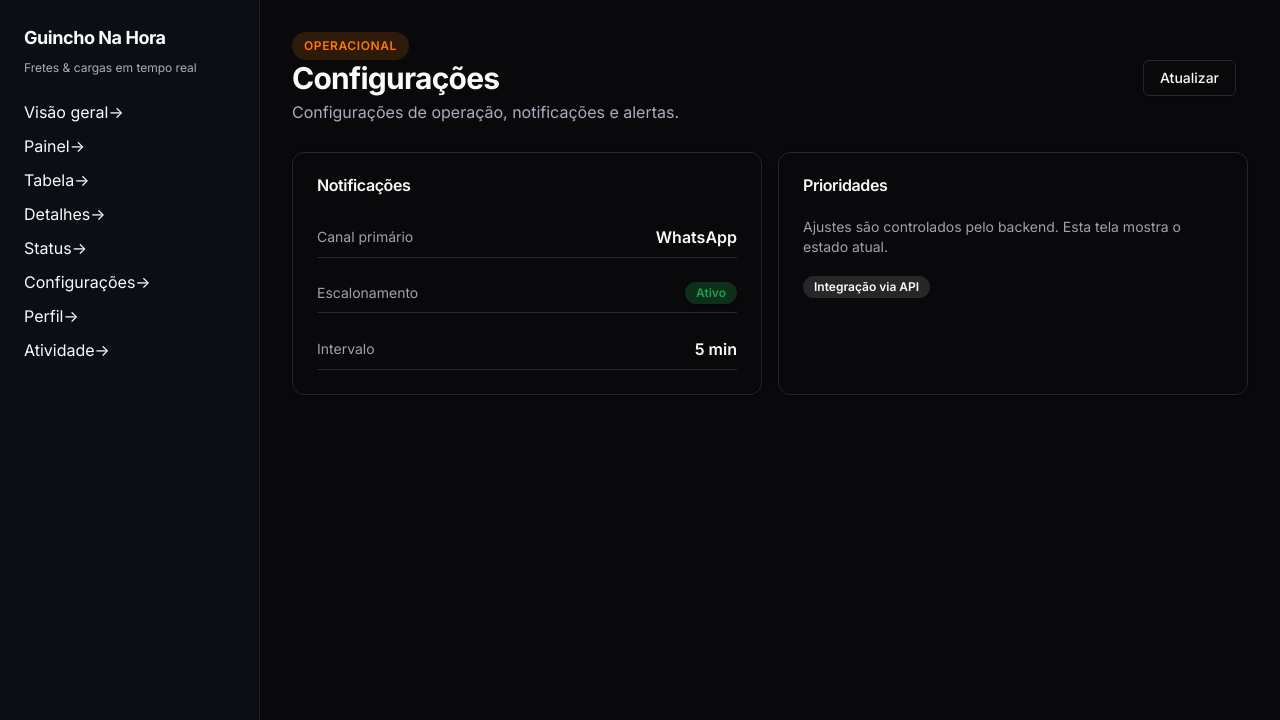
Test: Settings page › content and refresh › renders settings content
Check: the text "Notificações" is shown, box [317,175,410,195]
Check: the text "WhatsApp" is shown, box [656,225,737,249]
Step 1. Click the button "Atualizar" → click(1190, 78), box [1143,60,1236,96]
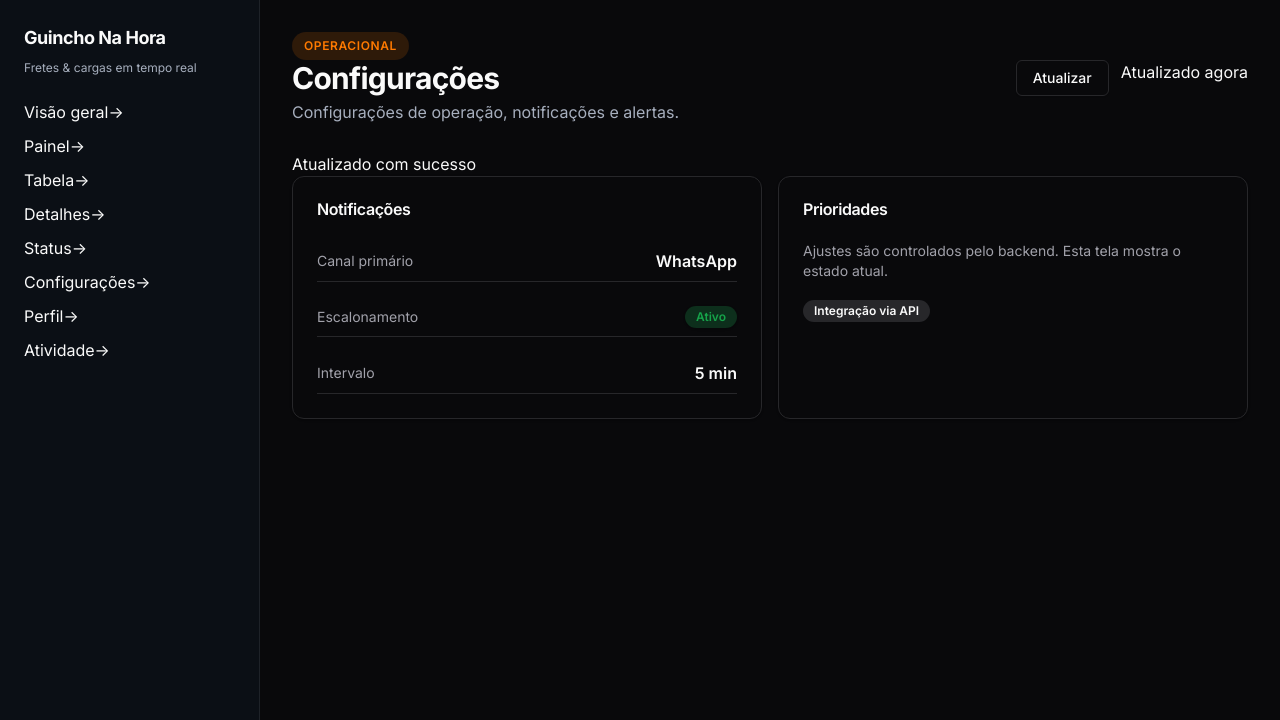
Check: the text "Atualizado com sucesso" is shown, box [292,154,476,174]
Check: the text "Atualizado agora" is shown, box [1121,62,1248,82]
